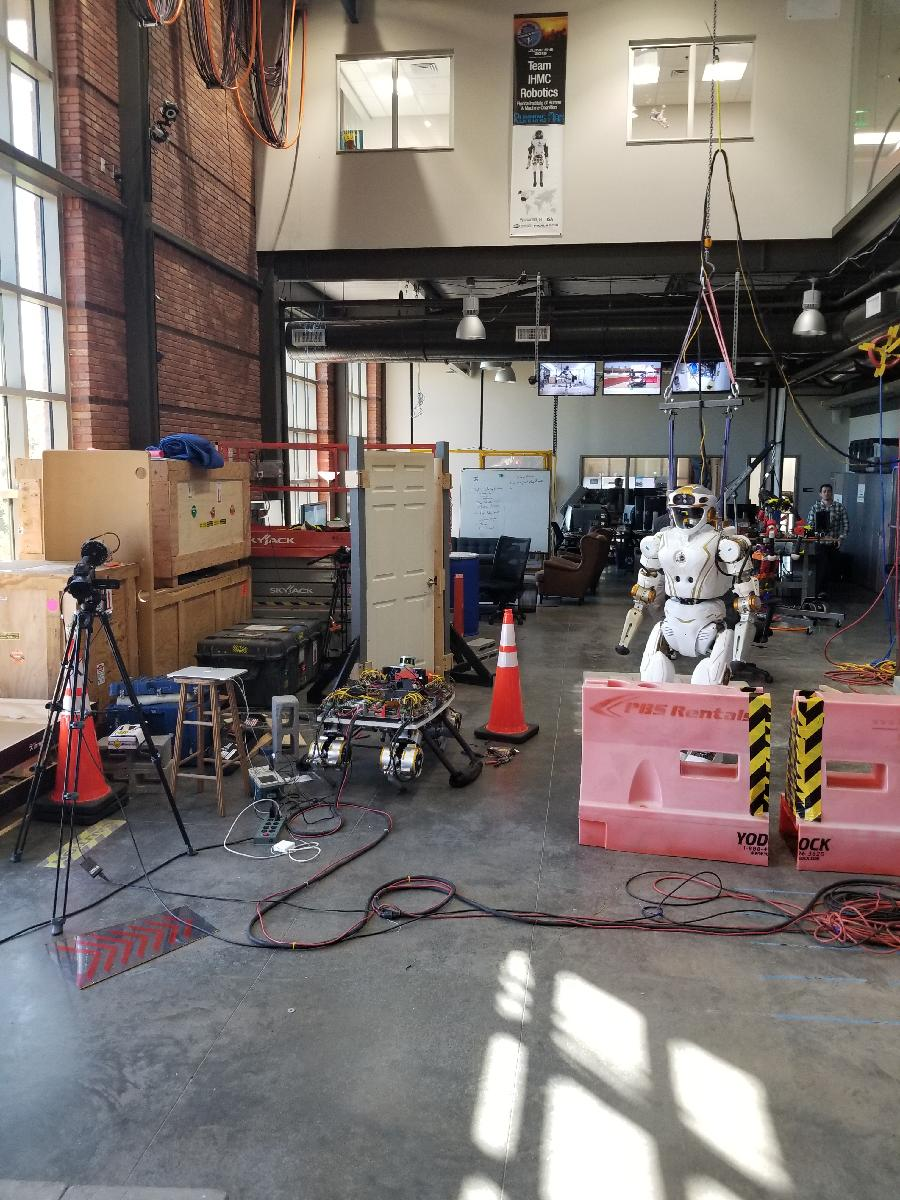door: (361, 445, 443, 709)
doorHandle: (423, 575, 437, 590)
